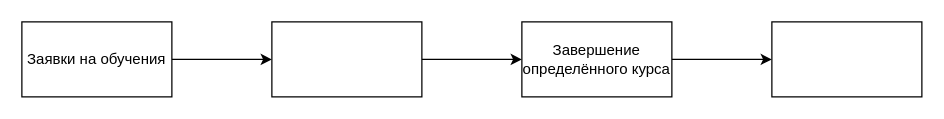
This 944x119 diagram has some shape labels left out. Each missing label, with the centre of its shape:
Оценочная ведомость: the point at 846,59
Платформа с курсами: the point at 346,59
